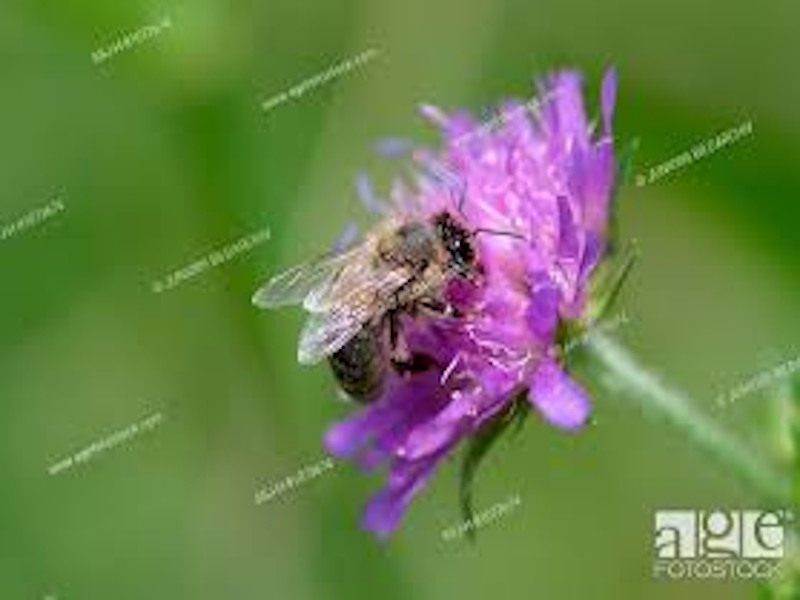abeja: (244, 172, 538, 419)
